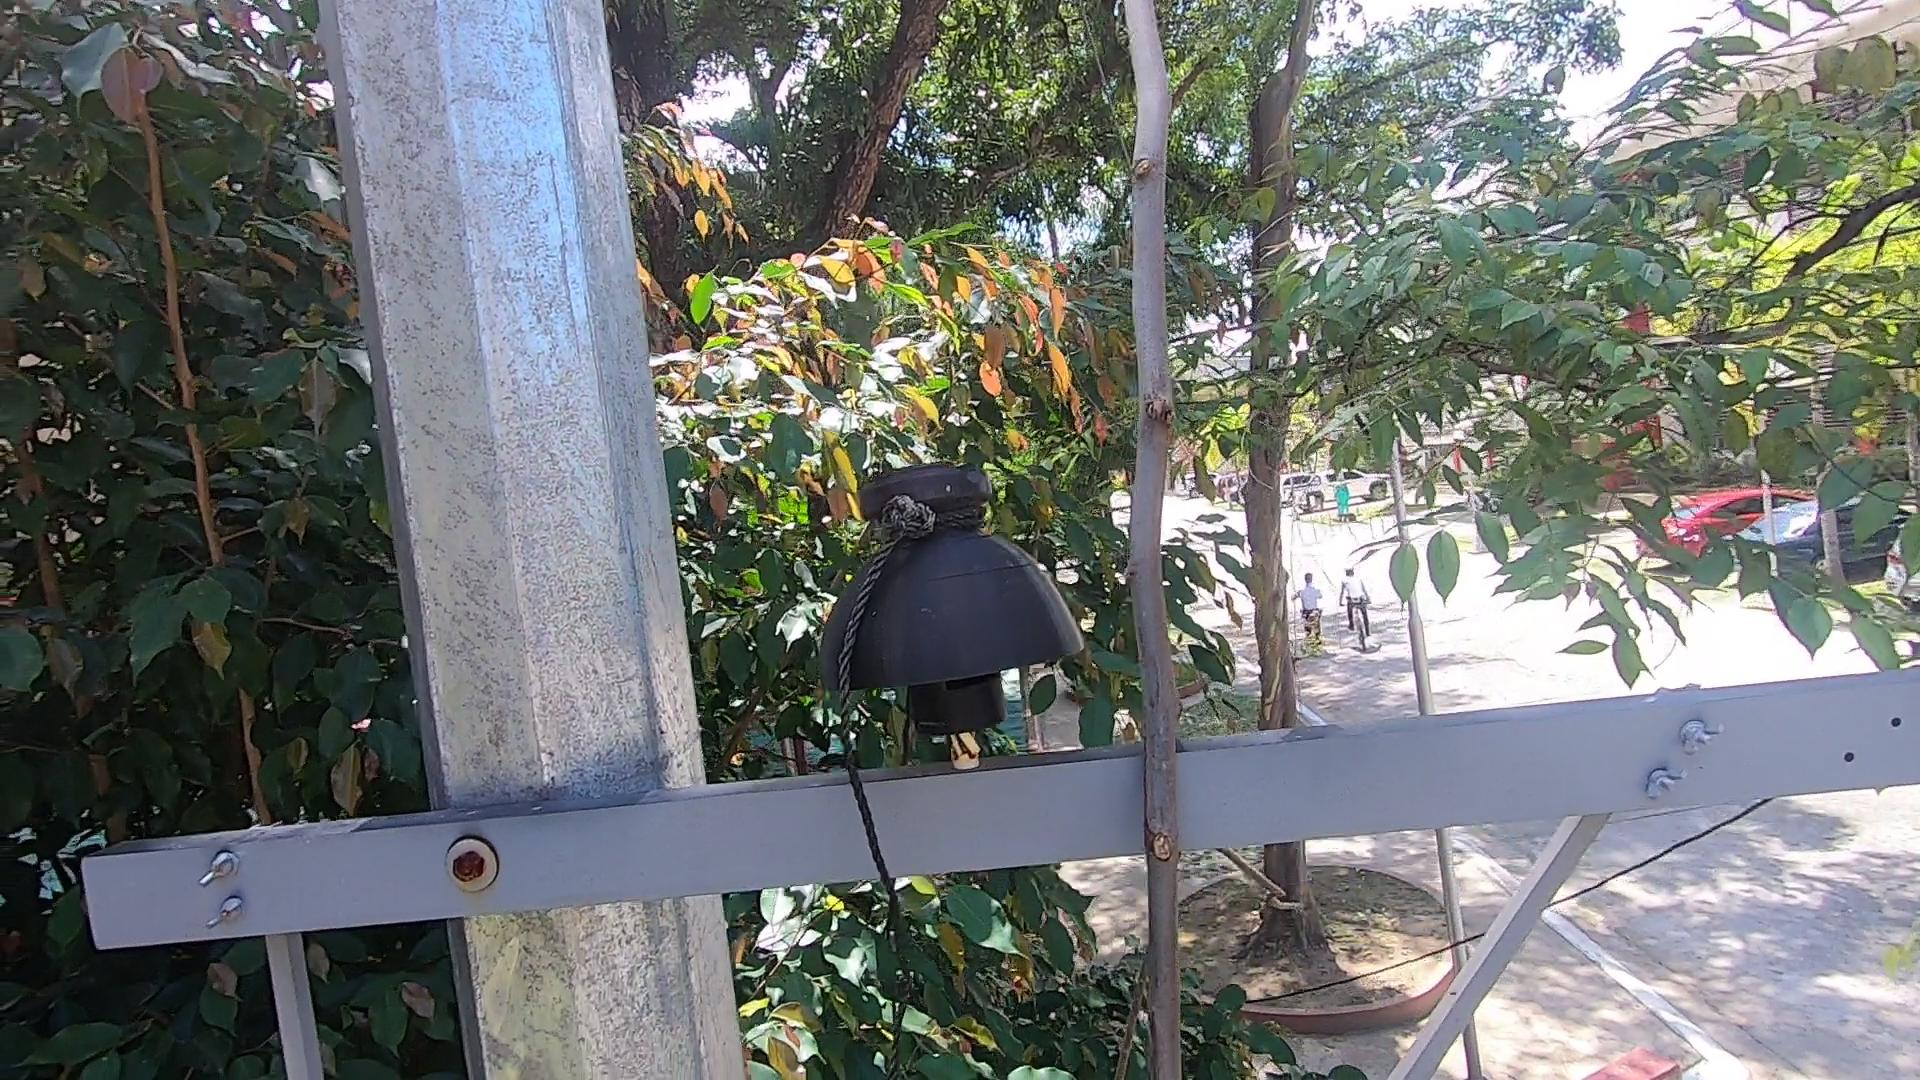tree branch: (1047, 3, 1309, 1073)
